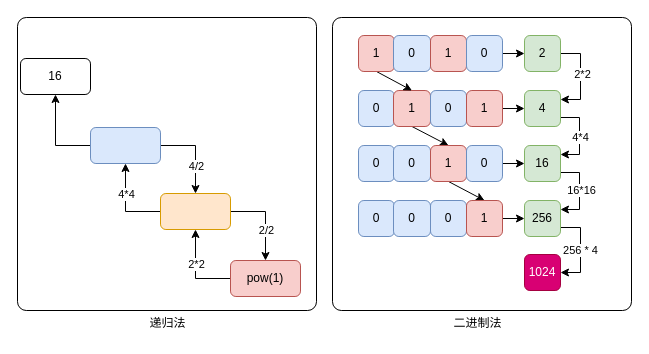
Some shapes in this 649 by 354 pixel diagram are drawn without their labels. The centre of each missing label's shape, as x and y in pixels:
"pow(2)" belongs at pixel 195 211.
"pow(4)" belongs at pixel 125 145.
